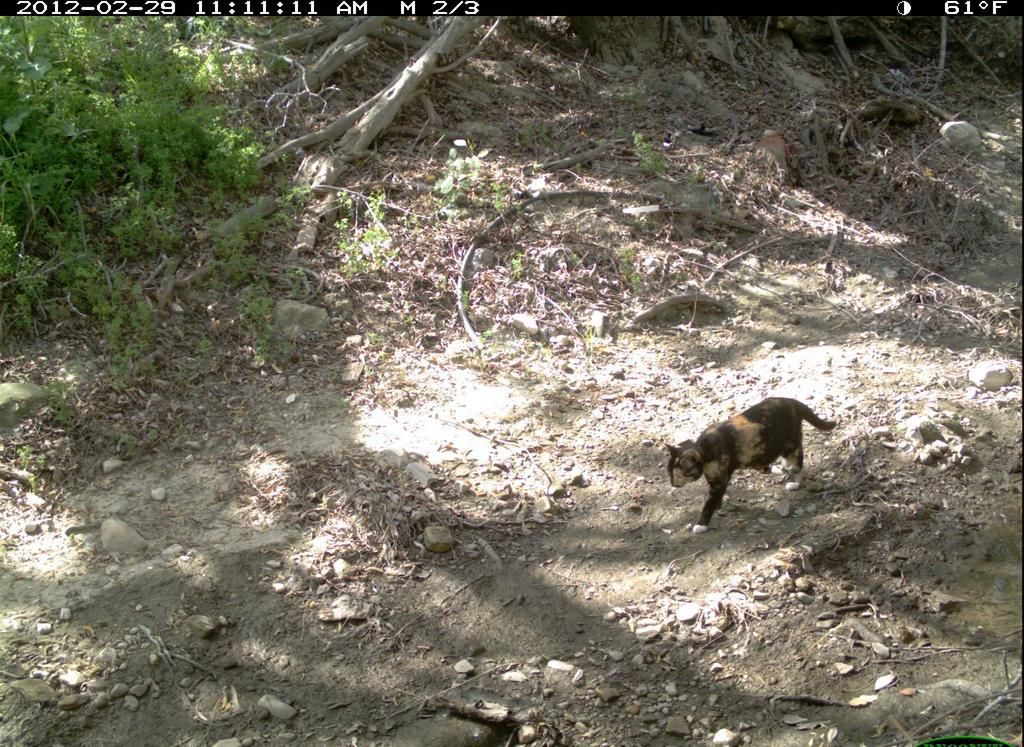cat: (657, 393, 843, 539)
